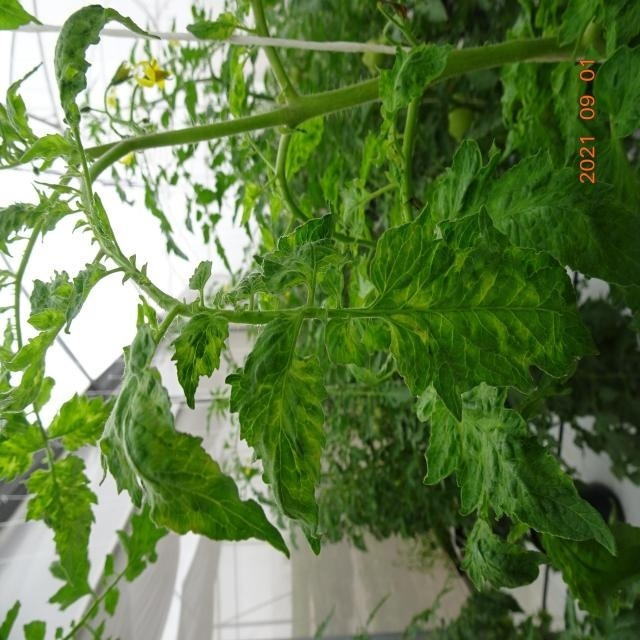T_L_R: (365, 208, 592, 421), (102, 334, 289, 554), (425, 384, 616, 554), (231, 316, 327, 554), (172, 314, 230, 409)
